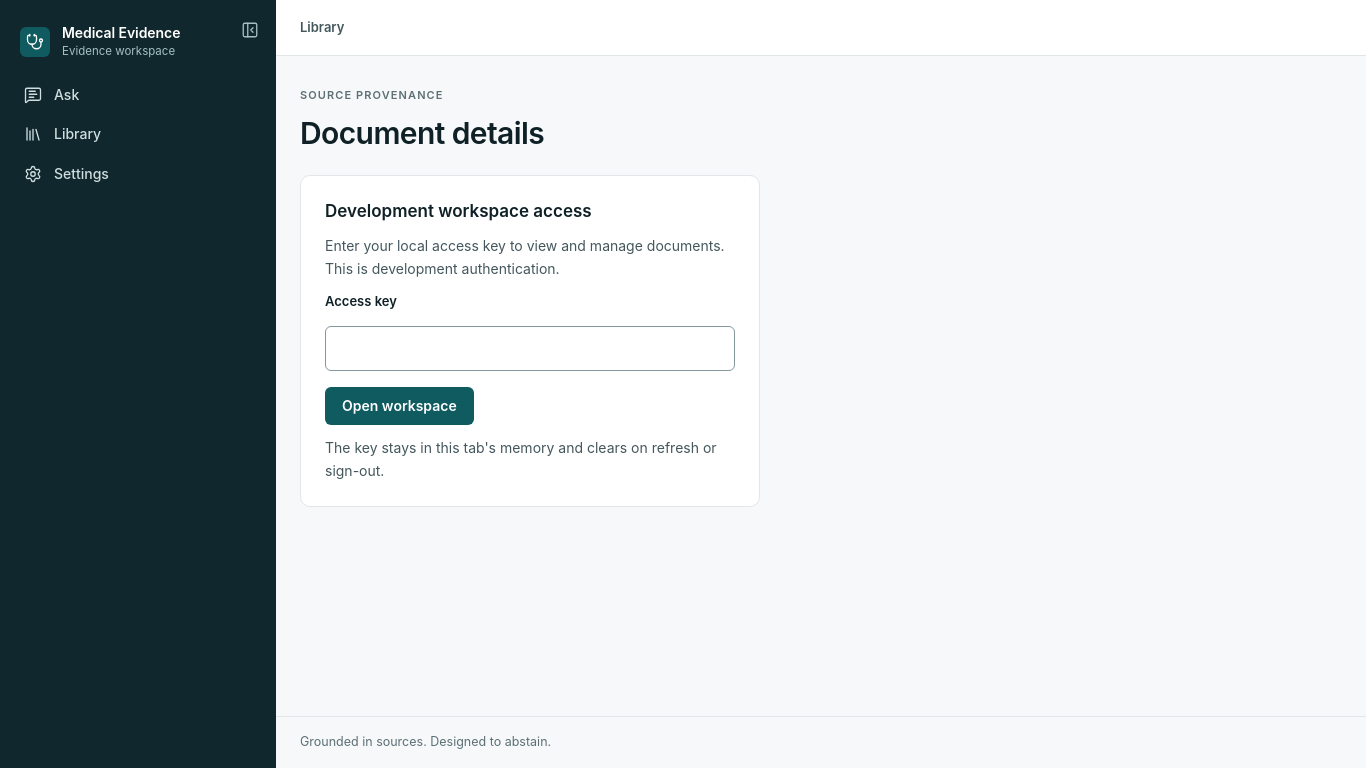
Test case: M4 embedding status on the document details page › shows the real model, revision, vector semantics and counts
Type "local-test-key" into the password field labelled "Access key" at point(530, 349), box [325, 326, 735, 371]
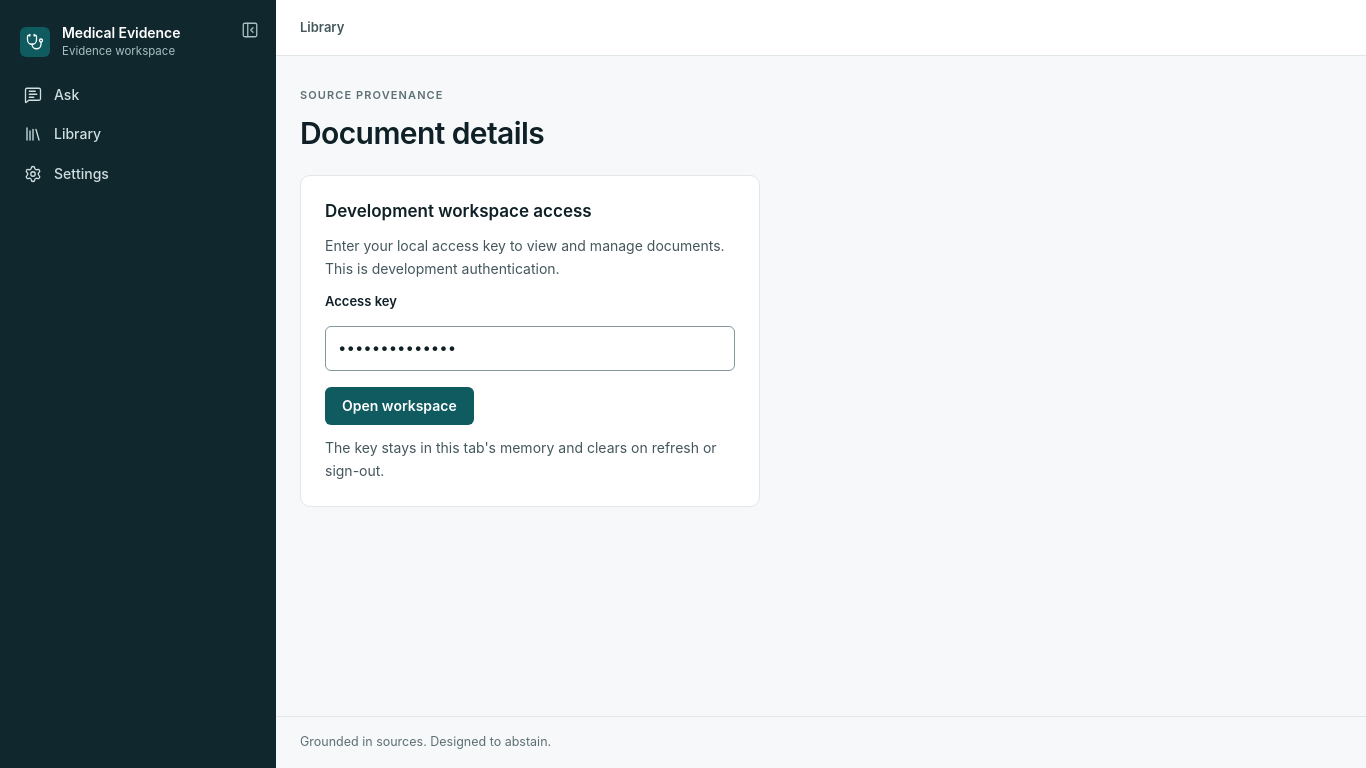
Click the button "Open workspace" at point(399, 406), box [325, 387, 474, 425]
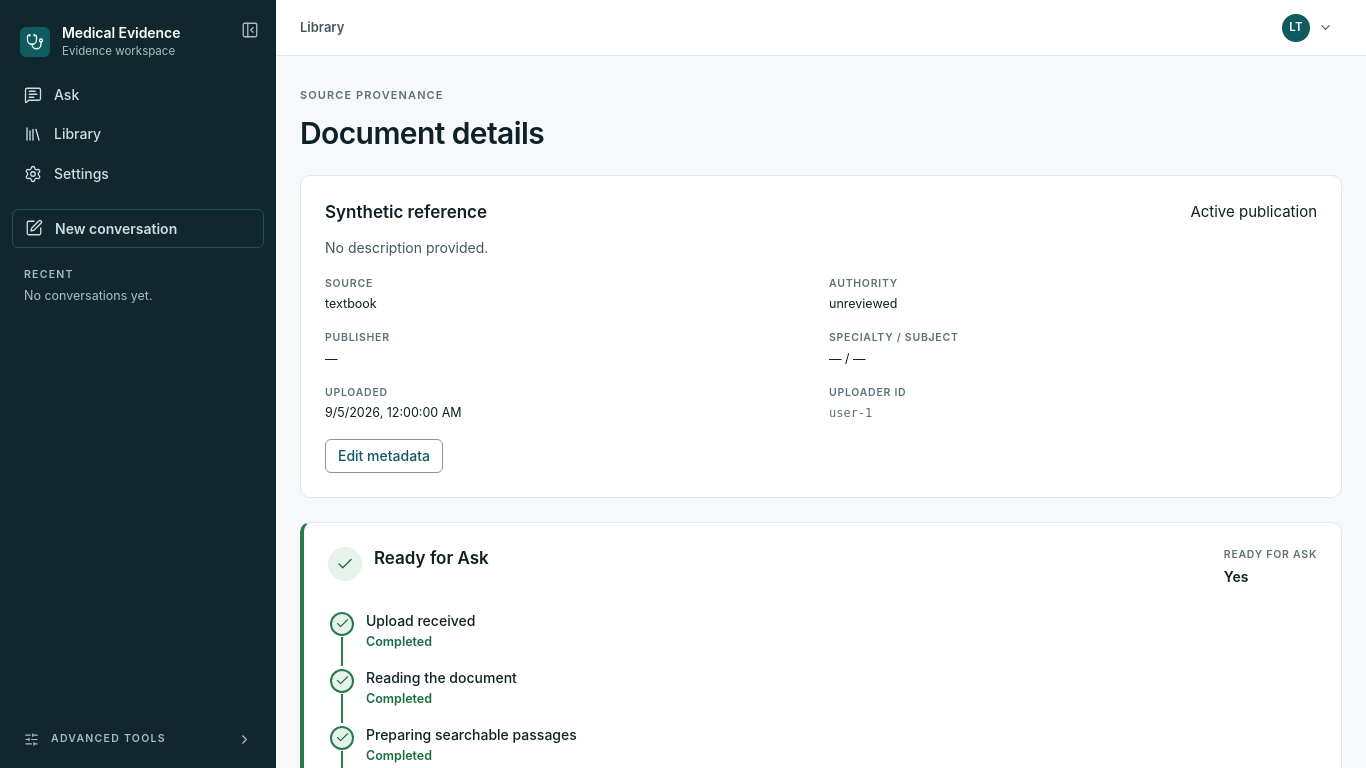
Check: the button named "Account and workspace" is shown, box [1277, 8, 1342, 46]
